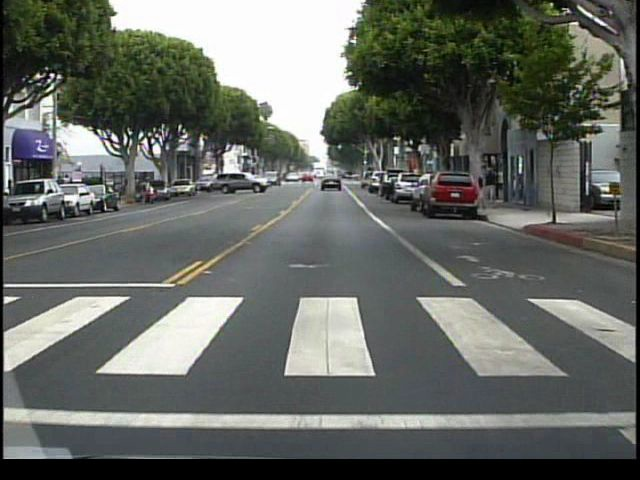person: (478, 169, 499, 210), (139, 177, 156, 209)
